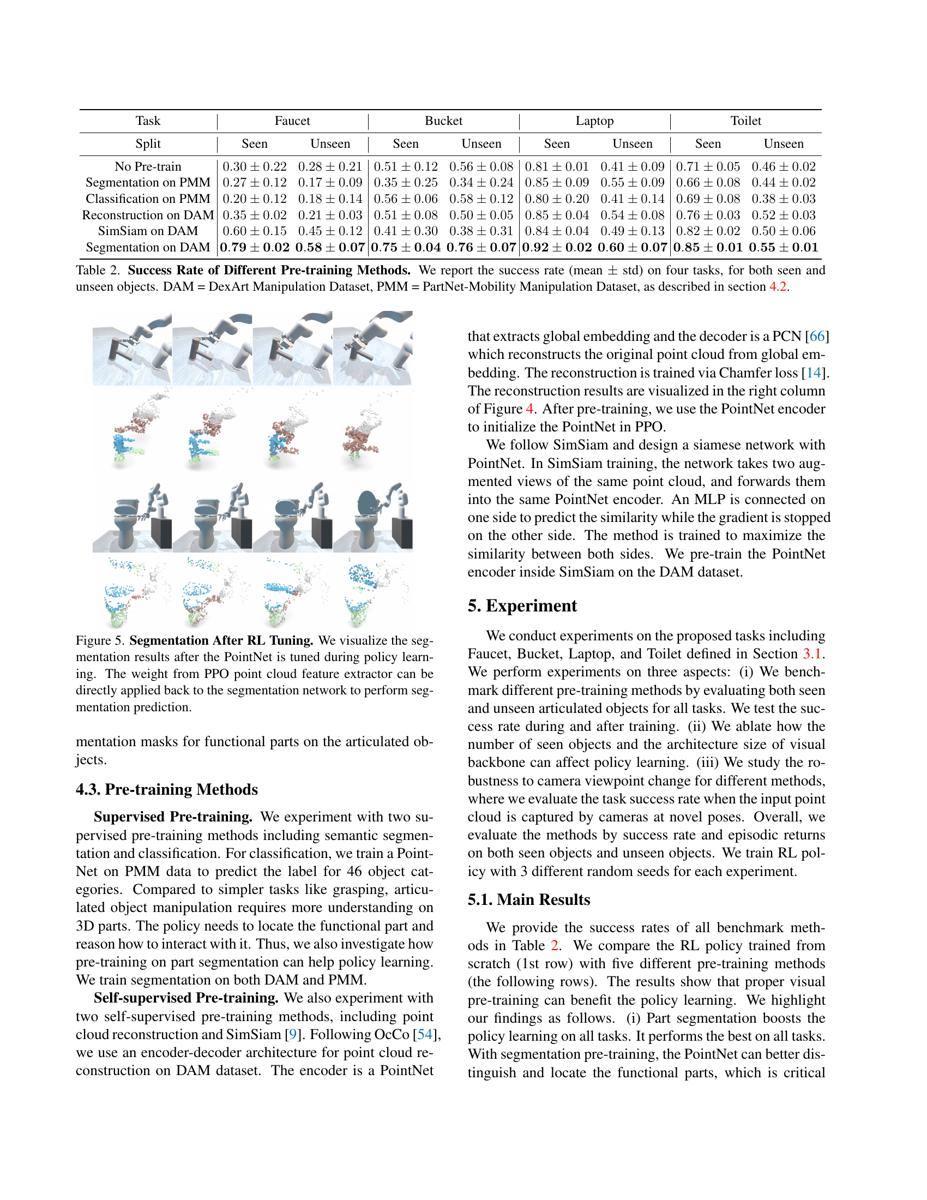figure: (72, 308, 438, 719)
table: (72, 105, 830, 298)
text: (69, 731, 442, 1083), (462, 595, 830, 884), (462, 325, 833, 583), (462, 890, 830, 1084)
